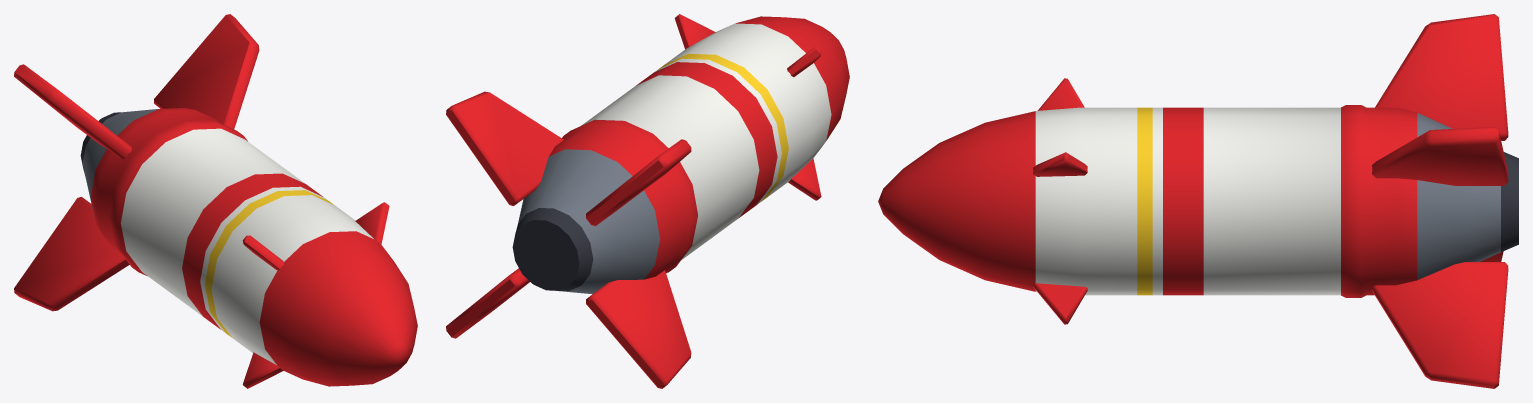
Rendered from Prop_Missile.fbx.
The picture shows the model from 3 angles, left to right: view 1: azimuth 30°, elevation 25°; view 2: azimuth 150°, elevation 25°; view 3: azimuth 270°, elevation 25°; orthographic projection. The views are drawn at different scales.
Visible parts, largest first — view 1: Prop_Missile; view 2: Prop_Missile; view 3: Prop_Missile.
Boxes of the visible parts, bbox=[...] form: Prop_Missile: bbox=[14, 14, 417, 388]; Prop_Missile: bbox=[446, 14, 849, 388]; Prop_Missile: bbox=[878, 14, 1518, 388].
Bounding box in the file's own units: 0.5634 × 0.5634 × 1.26.
Materials: 1 (1 with a texture image).
